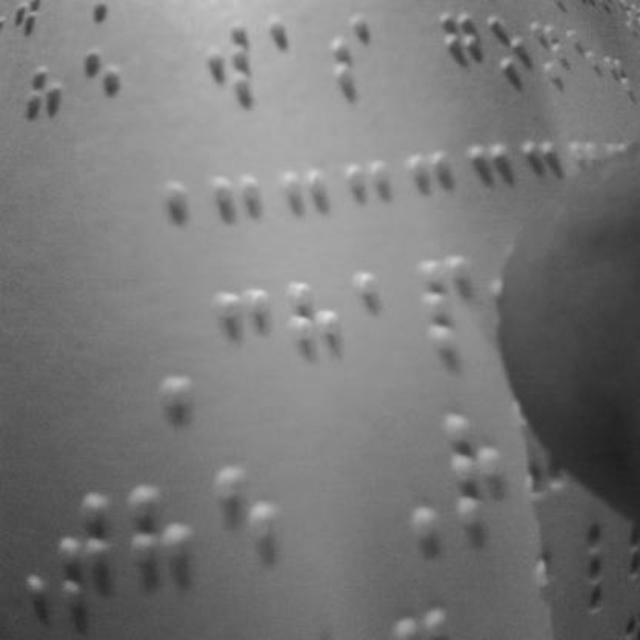braiile: (126, 480, 202, 630), (45, 484, 118, 640), (215, 456, 288, 604), (445, 404, 511, 542), (416, 250, 482, 382), (348, 262, 409, 390), (210, 279, 276, 397), (286, 274, 344, 394), (21, 55, 81, 167), (204, 10, 262, 122), (84, 42, 138, 154), (324, 4, 380, 108), (266, 9, 312, 116), (438, 6, 484, 104)
